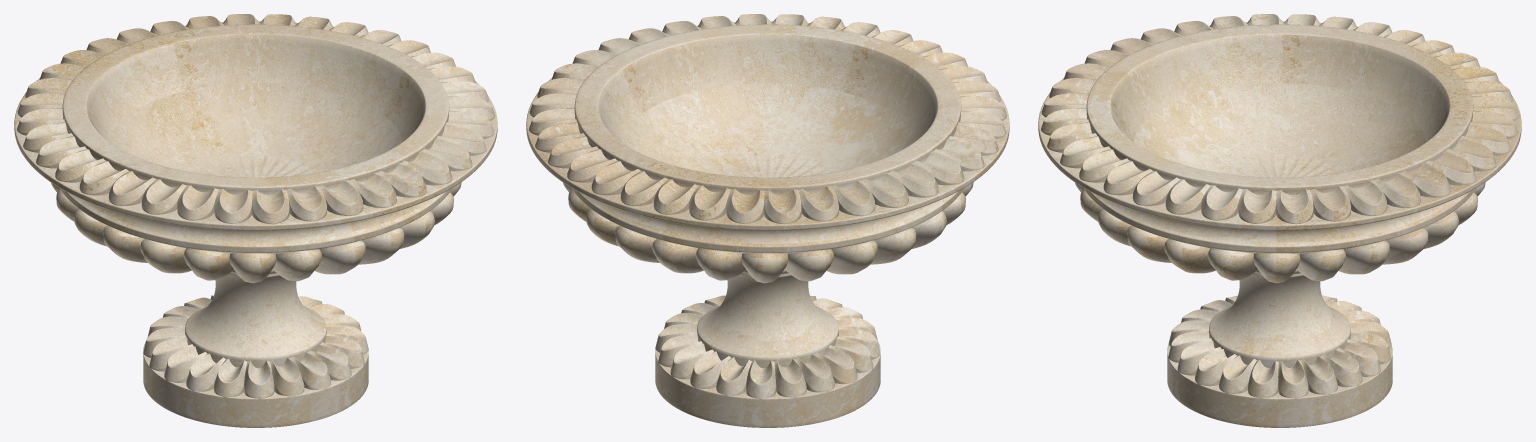
Rendered from flowerpot.obj.
3 renders of one model, left to right at view 1: azimuth 30°, elevation 25°; view 2: azimuth 150°, elevation 25°; view 3: azimuth 270°, elevation 25°, orthographic.
Parts seen in each view (by area): view 1: Layer_0____________201; view 2: Layer_0____________201; view 3: Layer_0____________201.
Part boxes in pixels (x1,y1,x2,y2): Layer_0____________201: (14,14,497,427); Layer_0____________201: (526,14,1009,427); Layer_0____________201: (1038,14,1521,427).
Bounding box in the file's own units: 989 × 620 × 989.
Materials: 1 (1 with a texture image).
